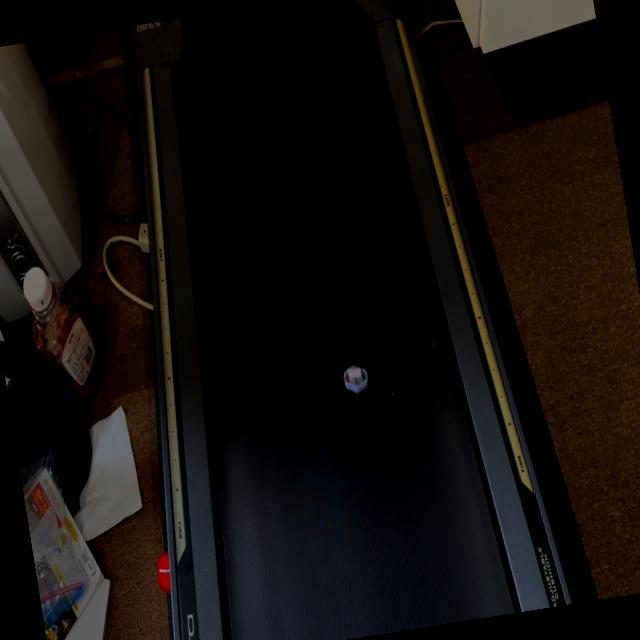Trash: (341, 362, 372, 398)
